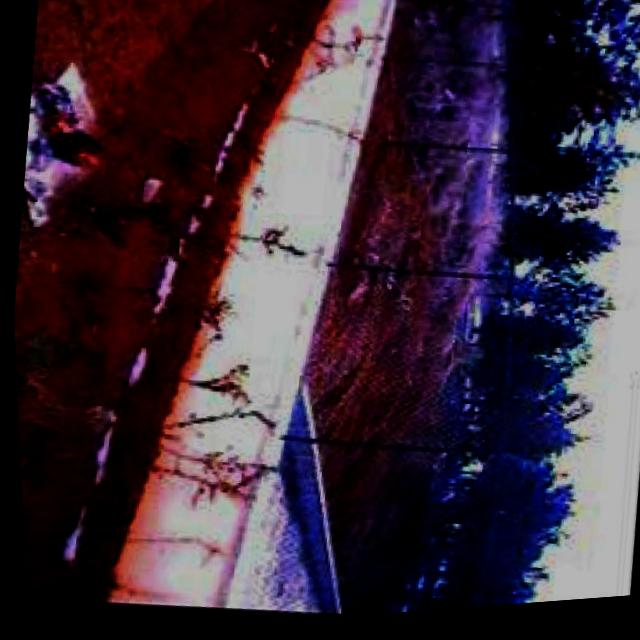Fire: (28, 112, 114, 181)
